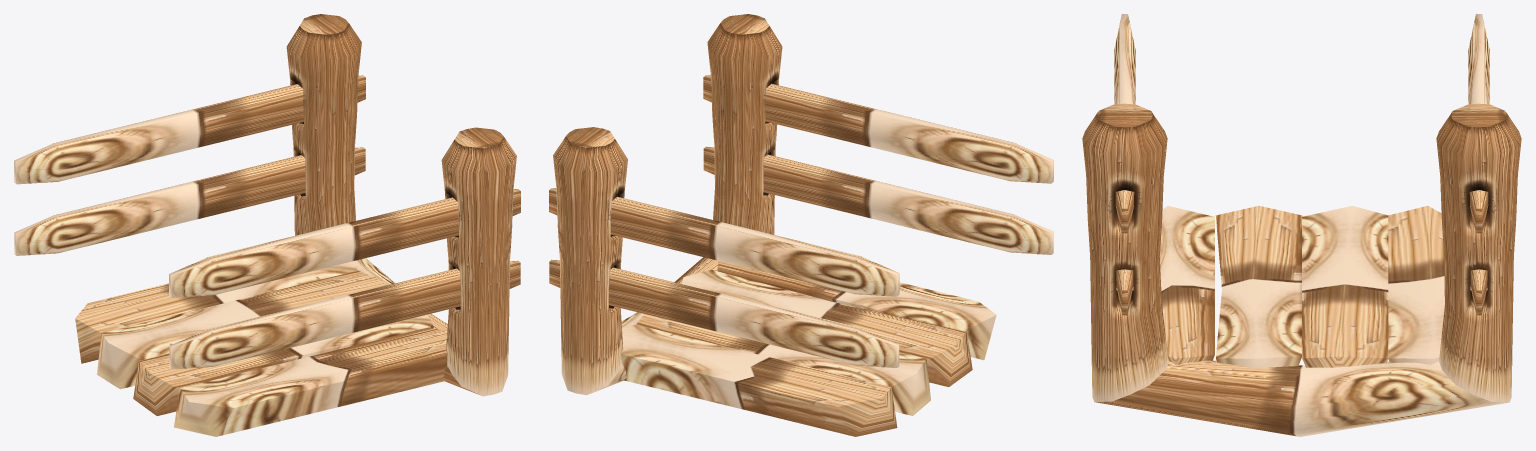
The picture shows the model from 3 angles, left to right: view 1: azimuth 30°, elevation 25°; view 2: azimuth 150°, elevation 25°; view 3: azimuth 270°, elevation 25°; orthographic projection. The views are drawn at different scales.
Parts seen in each view (by area): view 1: objpolySurface11; view 2: objpolySurface11; view 3: objpolySurface11.
Boxes of the visible parts, x1,y1,x2,y2 form: objpolySurface11: (14,14,520,436); objpolySurface11: (549,14,1053,436); objpolySurface11: (1082,14,1521,436).
Size of the model in its own units: 260 by 197 by 248.
1 material, 1 textured.
